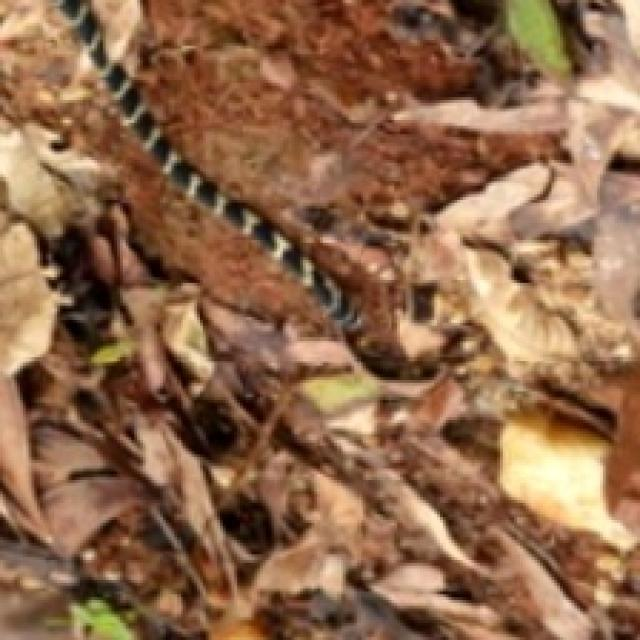king cobra: (57, 0, 434, 377)
